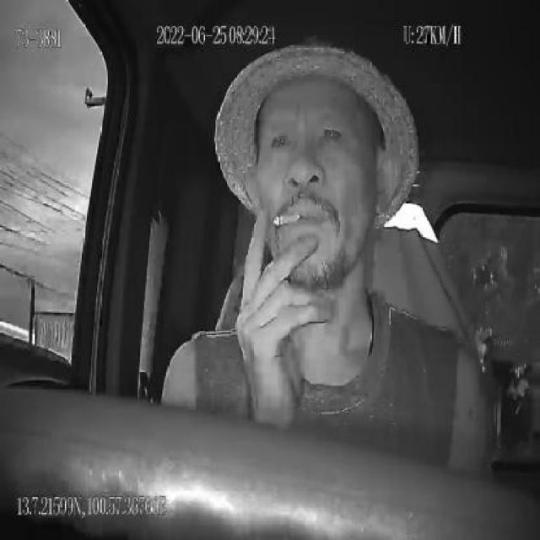smoking: (273, 208, 303, 229)
